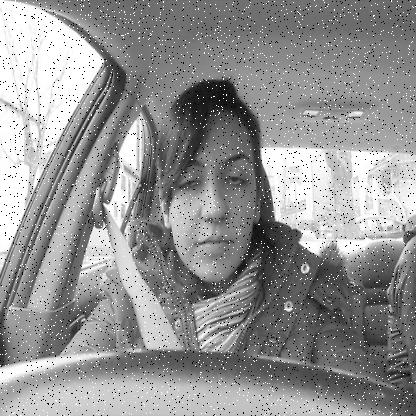seatbelt: (92, 62, 278, 404)
